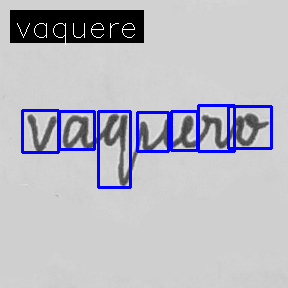a: (60, 113, 90, 152)
e: (176, 113, 198, 151)
o: (232, 109, 263, 148)
q: (100, 110, 130, 188)
r: (199, 112, 224, 153)
u: (136, 115, 174, 154)
v: (25, 110, 58, 155)
